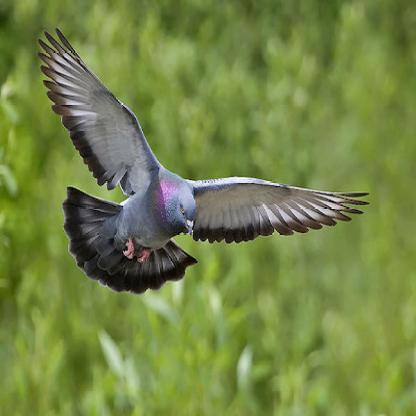Rock Pigeon: (43, 28, 367, 296)
